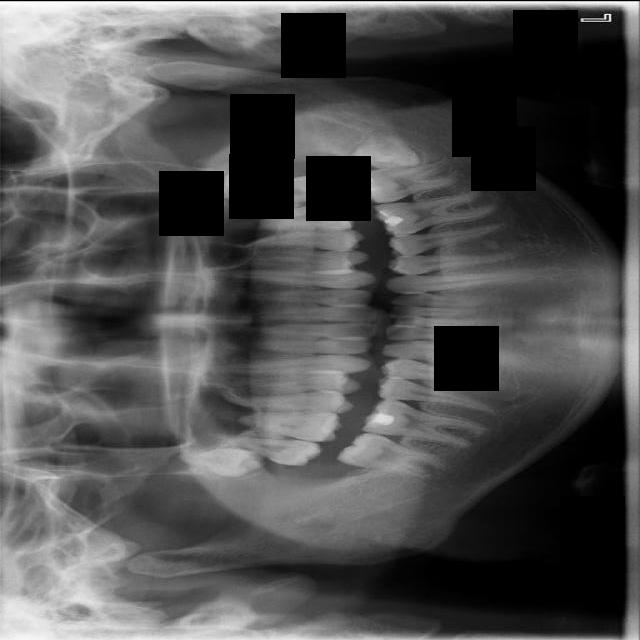3M ESPE Implant: (175, 447, 261, 476)
52: (369, 406, 398, 427), (376, 209, 404, 229), (361, 174, 382, 199)
73: (581, 38, 587, 58)
BioHorizons Implant: (218, 172, 341, 207)
BioLife Implant: (208, 158, 284, 200)
Biomet 3i Implant: (351, 126, 420, 169)
Blue Sky Bio Implant: (353, 153, 468, 208)
Caries: (207, 430, 322, 468)
Implant: (336, 427, 457, 482)
